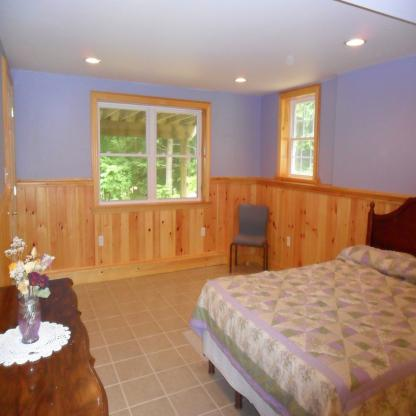vase: (16, 292, 41, 344)
